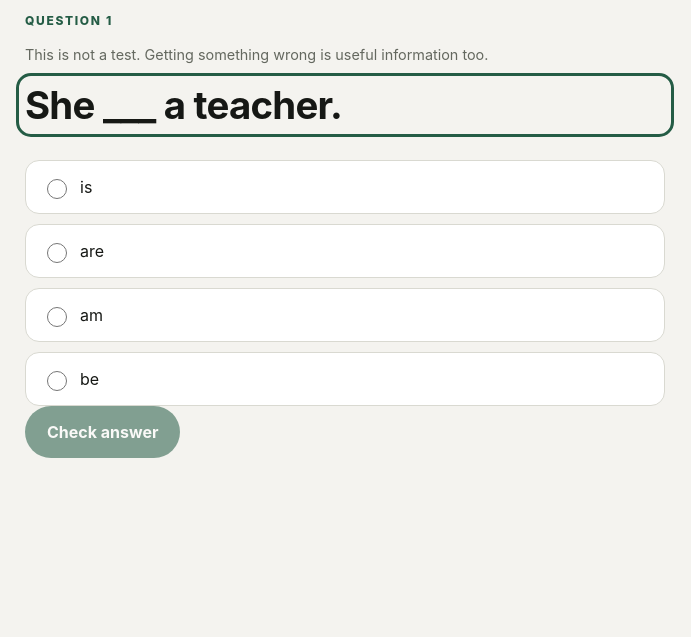
Test case: answering › announces feedback in a live region
Expected: the heading "She ___ a teacher." is shown, [25,82,342,128]
Click the radio button labelled "are" at (57, 253), box [47,243,67,263]
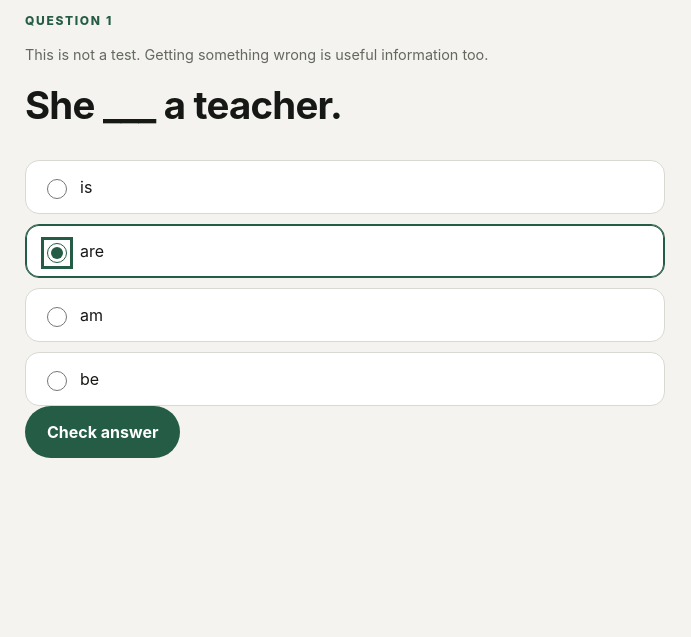
Click the button "Check answer" at (103, 432), box [25,406,180,458]
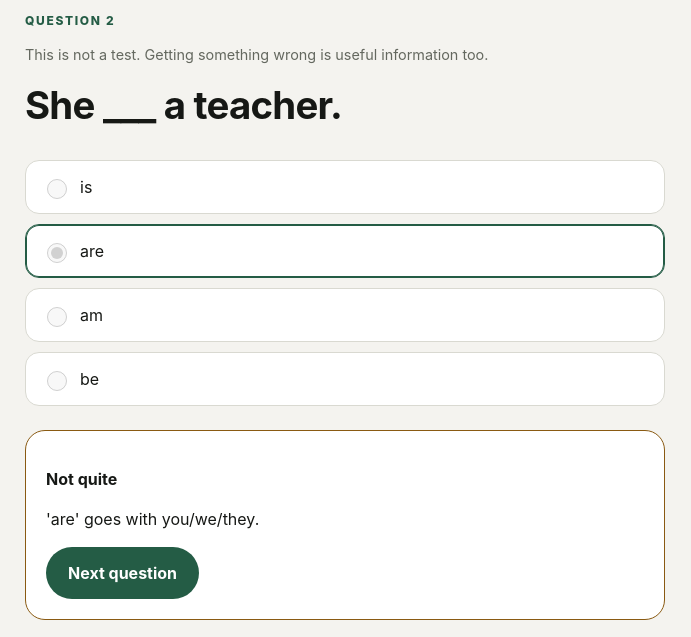
Result: the message shows "Not quite" at [46,469,117,489]
Result: the message shows "goes with you/we/they" at [46,509,259,529]
